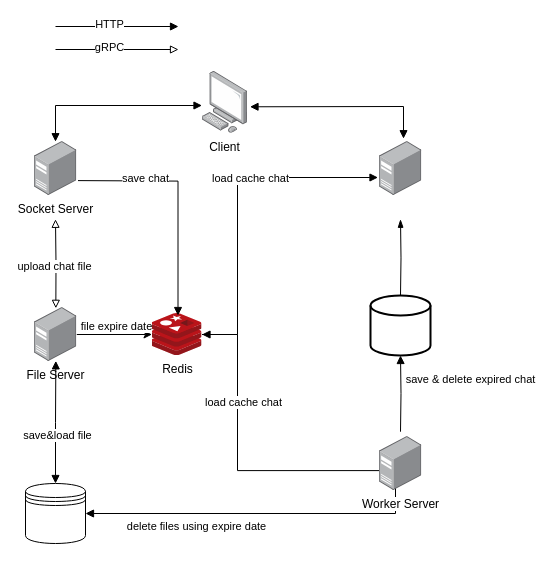
This 553x561 diagram has some shape labels left out. Each missing label, with the centre of its shape:
API Server: pixel 400 168
DB: pixel 400 325
Internal storage: pixel 55 513
